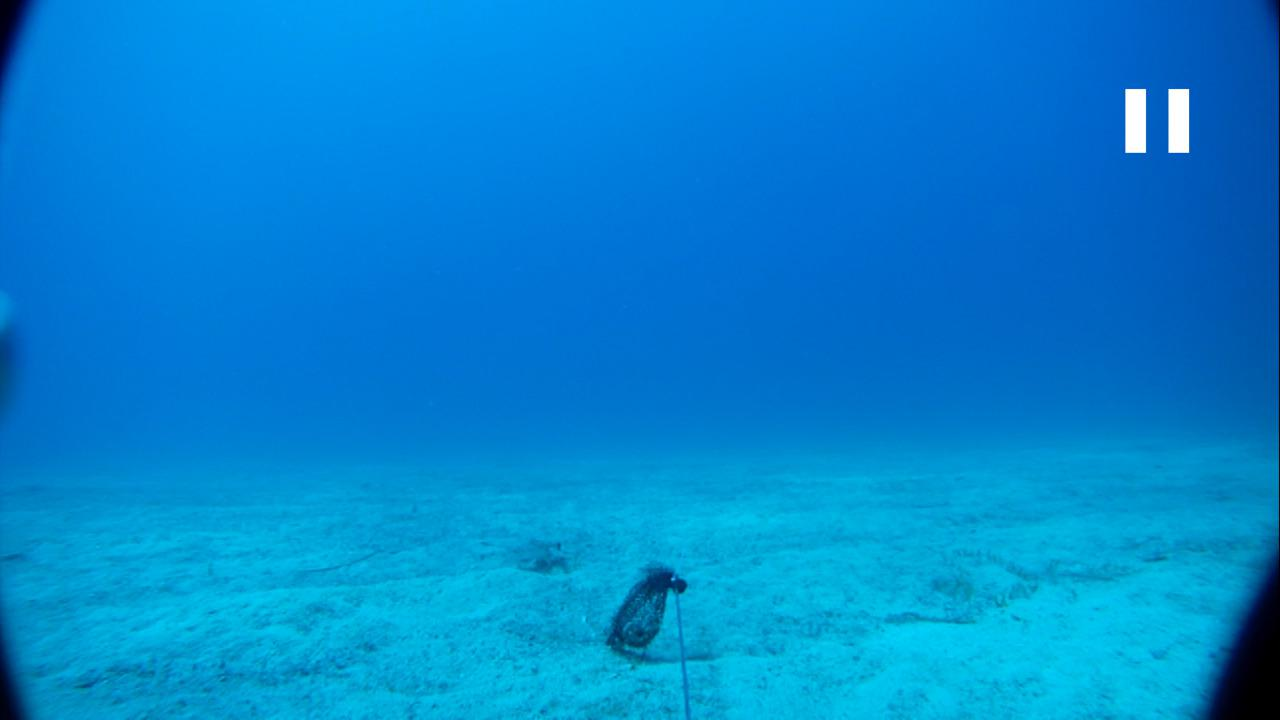dactylopterus: (475, 534, 570, 582)
